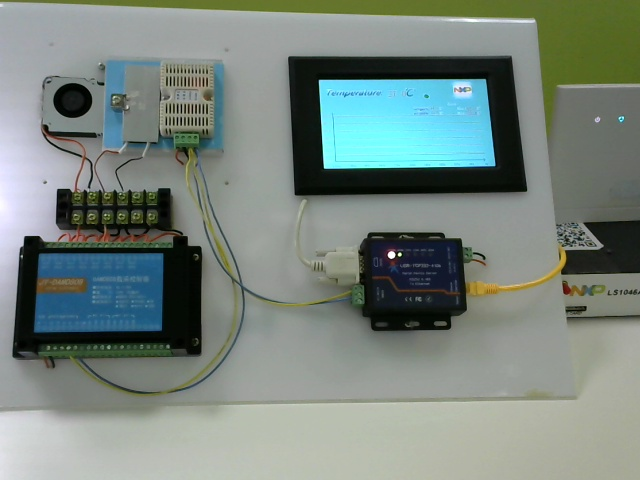fan: (38, 71, 102, 145)
heater: (118, 61, 161, 159)
modbus bridge: (359, 228, 475, 331)
relay: (5, 233, 211, 372)
termperature: (161, 61, 216, 146)
